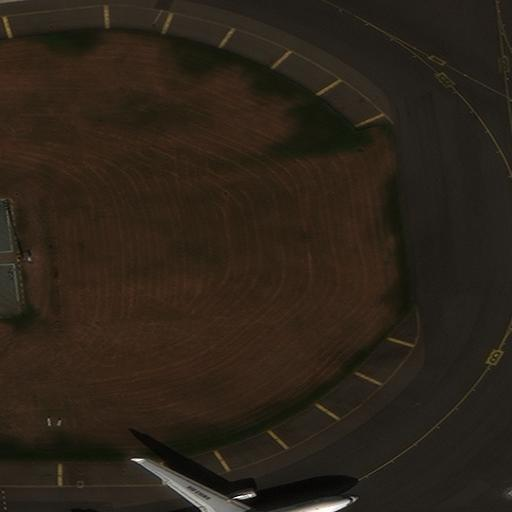Large Civil Transport: (115, 459, 357, 511)
